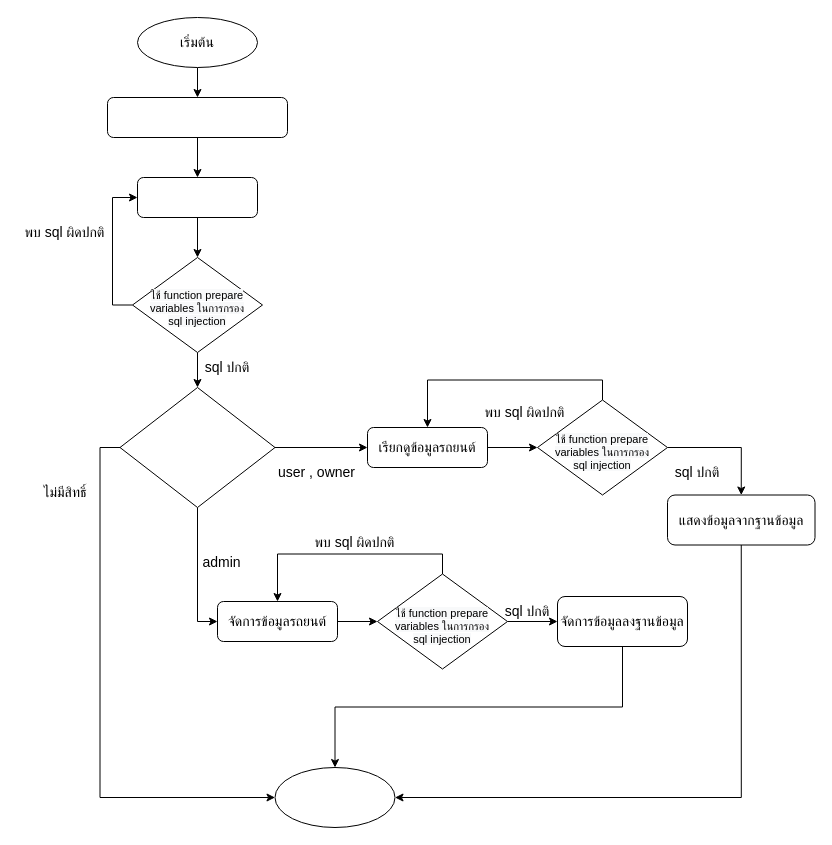
Some shapes in this 832 by 845 pixel diagram are drawn without their labels. The centre of each missing label's shape, as x and y in pixels:
"ดำเนินการเชื่อมต่อฐานข้อมูล" goes at point (197, 117).
"ตรวจสอบสิทธิ์เข้าใช้งาน" goes at point (197, 447).
"สิ้นสุด" goes at point (334, 797).
"เข้าสู่ระบบ" goes at point (197, 197).
